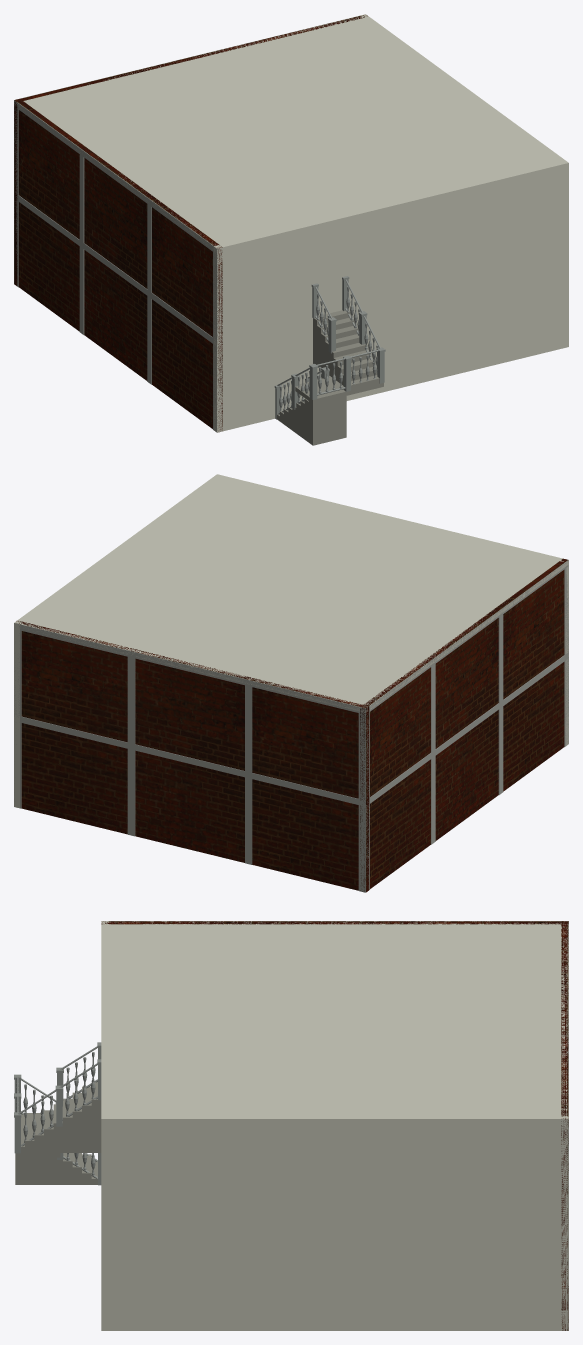
File: building.glb
The picture shows the model from 3 angles, top to bottom: view 1: azimuth 30°, elevation 25°; view 2: azimuth 150°, elevation 25°; view 3: azimuth 270°, elevation 25°; orthographic projection. The views are drawn at different scales.
Visible parts, largest first — view 1: roof/house:0/roof_slab#0001, house:0/edge0/z0/house:0/edge0/z0/wall_0_0, house:0/edge3/z0/house:0/edge3/z0/wall_0_0, house:0/edge2/z0/house:0/edge2/z0/wall_0_0, house:0/edge1/z0/house:0/edge1/z0/wall_0_0, house:0/edge0/z0/stair_00/exterior_stair_step#0009, house:0/edge3/z0/house:0/edge3/z0/beam_1_0, house:0/edge3/z0/house:0/edge3/z0/beam_0_0, house:0/edge0/z0/stair_00/exterior_stair_landing#0001; view 2: roof/house:0/roof_slab#0001, house:0/edge2/z0/house:0/edge2/z0/wall_0_0, house:0/edge3/z0/house:0/edge3/z0/wall_0_0, house:0/edge2/z0/house:0/edge2/z0/beam_0_0, house:0/edge2/z0/house:0/edge2/z0/beam_1_0, house:0/edge1/z0/house:0/edge1/z0/wall_0_0, house:0/edge0/z0/house:0/edge0/z0/wall_0_0, house:0/edge3/z0/house:0/edge3/z0/beam_0_0, house:0/edge3/z0/house:0/edge3/z0/beam_1_0, house:0/edge2/z0/house:0/edge2/z0/column_2_0, house:0/edge2/z0/house:0/edge2/z0/column_2_1, house:0/edge2/z0/house:0/edge2/z0/column_1_1 (+3 smaller); view 3: house:0/edge1/z0/house:0/edge1/z0/wall_0_0, roof/house:0/roof_slab#0001, house:0/edge0/z0/house:0/edge0/z0/wall_0_0, house:0/edge2/z0/house:0/edge2/z0/wall_0_0, house:0/edge3/z0/house:0/edge3/z0/wall_0_0, house:0/edge0/z0/stair_00/exterior_stair_step#0018, house:0/edge0/z0/stair_00/exterior_stair_step#0017, house:0/edge0/z0/stair_00/exterior_stair_step#0016.
Boxes of the visible parts, x1,y1,x2,y2 form: roof/house:0/roof_slab#0001: [14, 15, 566, 252]; house:0/edge0/z0/house:0/edge0/z0/wall_0_0: [213, 160, 568, 432]; house:0/edge3/z0/house:0/edge3/z0/wall_0_0: [15, 99, 222, 430]; house:0/edge2/z0/house:0/edge2/z0/wall_0_0: [14, 15, 367, 285]; house:0/edge1/z0/house:0/edge1/z0/wall_0_0: [361, 14, 568, 348]; house:0/edge0/z0/stair_00/exterior_stair_step#0009: [309, 389, 346, 445]; house:0/edge3/z0/house:0/edge3/z0/beam_1_0: [14, 100, 217, 254]; house:0/edge3/z0/house:0/edge3/z0/beam_0_0: [16, 194, 217, 346]; house:0/edge0/z0/stair_00/exterior_stair_landing#0001: [295, 376, 383, 401]; roof/house:0/roof_slab#0001: [14, 474, 568, 712]; house:0/edge2/z0/house:0/edge2/z0/wall_0_0: [16, 621, 369, 892]; house:0/edge3/z0/house:0/edge3/z0/wall_0_0: [360, 558, 567, 891]; house:0/edge2/z0/house:0/edge2/z0/beam_0_0: [14, 715, 365, 806]; house:0/edge2/z0/house:0/edge2/z0/beam_1_0: [15, 623, 365, 714]; house:0/edge1/z0/house:0/edge1/z0/wall_0_0: [14, 474, 222, 808]; house:0/edge0/z0/house:0/edge0/z0/wall_0_0: [214, 474, 568, 745]; house:0/edge3/z0/house:0/edge3/z0/beam_0_0: [366, 652, 568, 805]; house:0/edge3/z0/house:0/edge3/z0/beam_1_0: [365, 560, 568, 714]; house:0/edge2/z0/house:0/edge2/z0/column_2_0: [127, 657, 135, 744]; house:0/edge2/z0/house:0/edge2/z0/column_2_1: [127, 749, 135, 836]; house:0/edge2/z0/house:0/edge2/z0/column_1_1: [358, 713, 365, 800]; house:0/edge1/z0/house:0/edge1/z0/wall_0_0: [101, 1115, 568, 1330]; roof/house:0/roof_slab#0001: [101, 921, 568, 1123]; house:0/edge0/z0/house:0/edge0/z0/wall_0_0: [101, 921, 108, 1330]; house:0/edge2/z0/house:0/edge2/z0/wall_0_0: [561, 921, 568, 1330]; house:0/edge3/z0/house:0/edge3/z0/wall_0_0: [101, 921, 568, 924]; house:0/edge0/z0/stair_00/exterior_stair_step#0018: [91, 1082, 101, 1152]; house:0/edge0/z0/stair_00/exterior_stair_step#0017: [82, 1086, 91, 1152]; house:0/edge0/z0/stair_00/exterior_stair_step#0016: [72, 1092, 81, 1152].
Bounding box in the file's own units: 12 × 6 × 14.24.
Materials: 5 (1 with a texture image).
